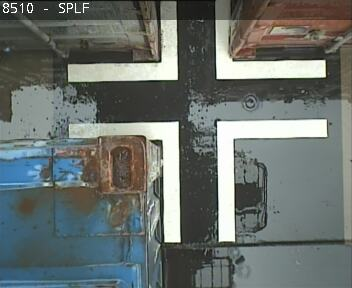groundmarker_1: (68, 116, 325, 242), (68, 1, 326, 83)
